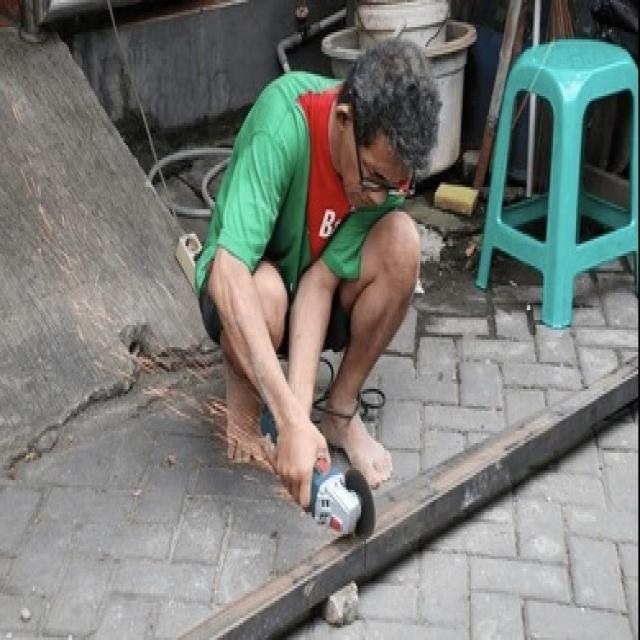no-boots: (335, 303, 430, 496), (207, 337, 270, 483)
no-gloves: (262, 382, 332, 509)
no-goggles: (344, 126, 426, 198)
no-helmet: (327, 24, 445, 223)
no-vest: (233, 89, 363, 278)
person: (174, 0, 455, 534)
